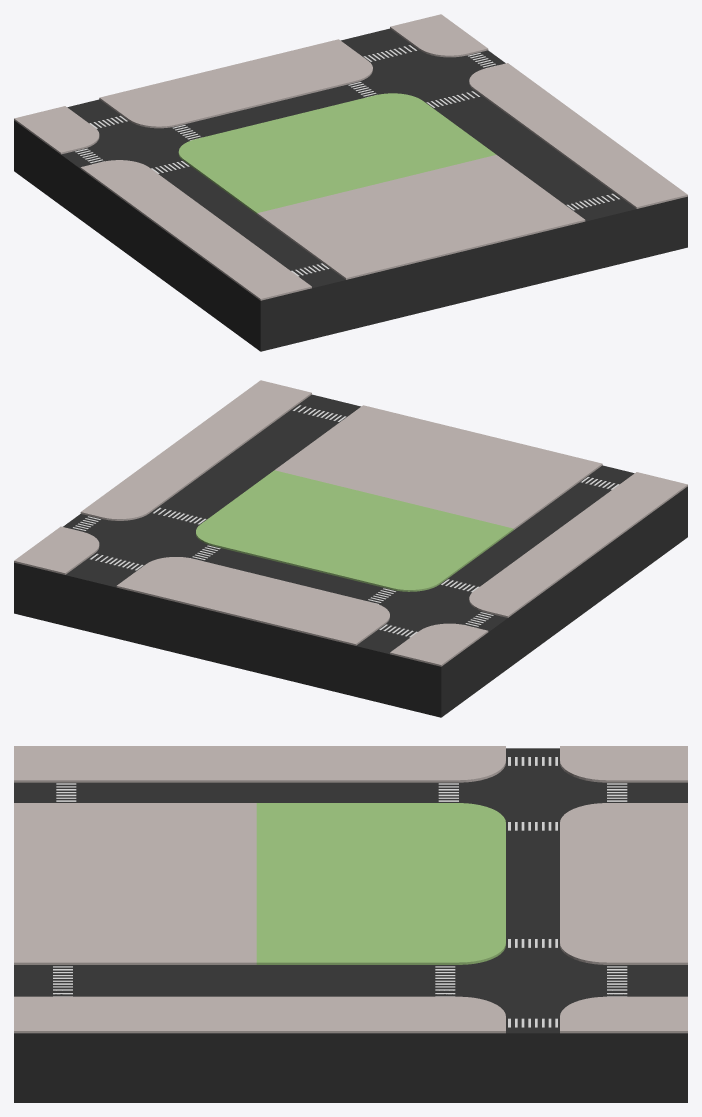
The model's file is site.glb.
3 views of the same model, one above another, from view 1: azimuth 30°, elevation 25°; view 2: azimuth 150°, elevation 25°; view 3: azimuth 270°, elevation 25° (orthographic). The views are drawn at different scales.
Visible parts, largest first — view 1: road, surrounding, siteGreen, crossing; view 2: road, surrounding, siteGreen, crossing; view 3: surrounding, road, siteGreen, crossing.
Part boxes in pixels (x1=…): road: x1=14, y1=28, x2=687, y2=351; surrounding: x1=14, y1=14, x2=687, y2=300; siteGreen: x1=178, y1=93, x2=496, y2=214; crossing: x1=75, y1=45, x2=619, y2=276; road: x1=14, y1=394, x2=687, y2=717; surrounding: x1=14, y1=380, x2=687, y2=666; siteGreen: x1=196, y1=470, x2=513, y2=591; crossing: x1=73, y1=405, x2=619, y2=637; surrounding: x1=14, y1=746, x2=687, y2=1033; road: x1=14, y1=748, x2=687, y2=1102; siteGreen: x1=256, y1=803, x2=505, y2=964; crossing: x1=53, y1=757, x2=627, y2=1027.
Bounding box in the file's own units: 500 × 59 × 500.
